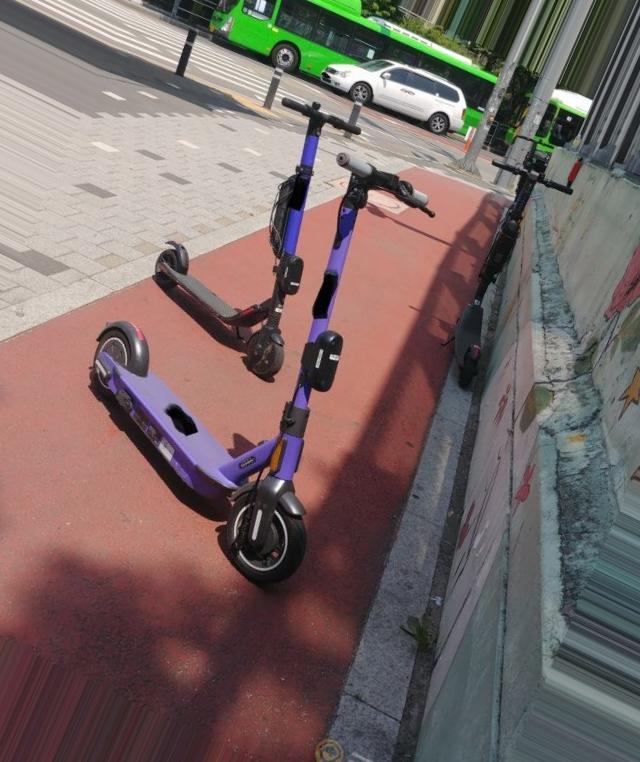scooter: (90, 151, 437, 591), (153, 97, 363, 380), (450, 158, 575, 393)
